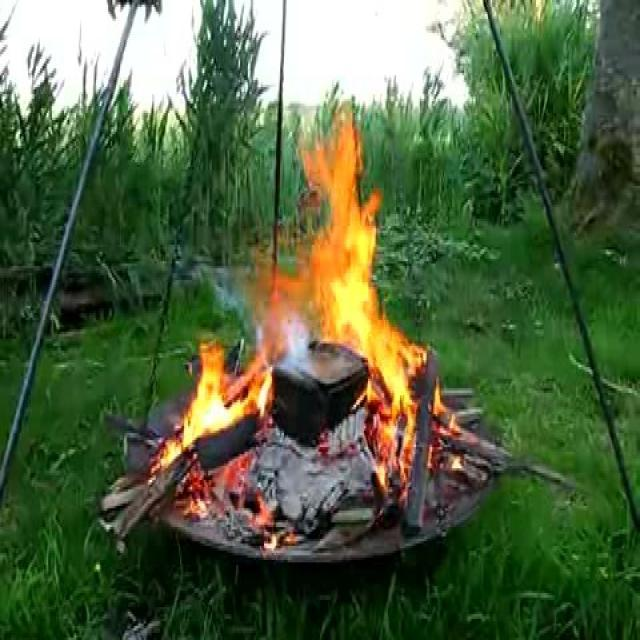Fire: (302, 138, 416, 432), (180, 322, 264, 440)
